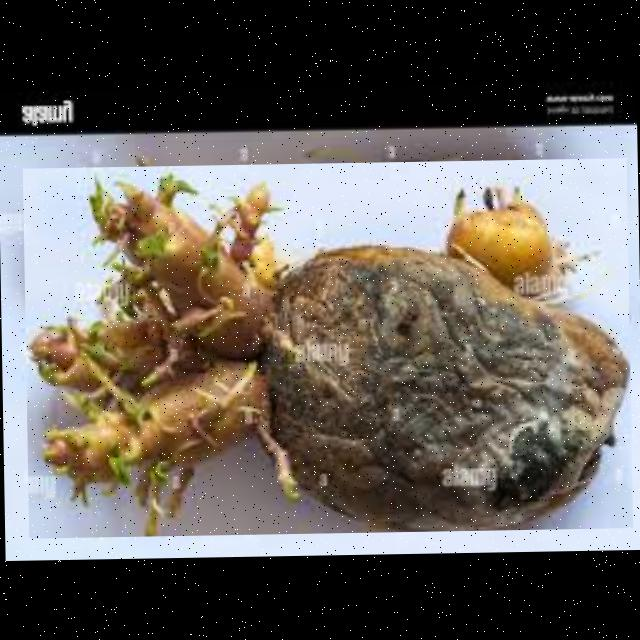Sprouted potato: (21, 157, 632, 538)
